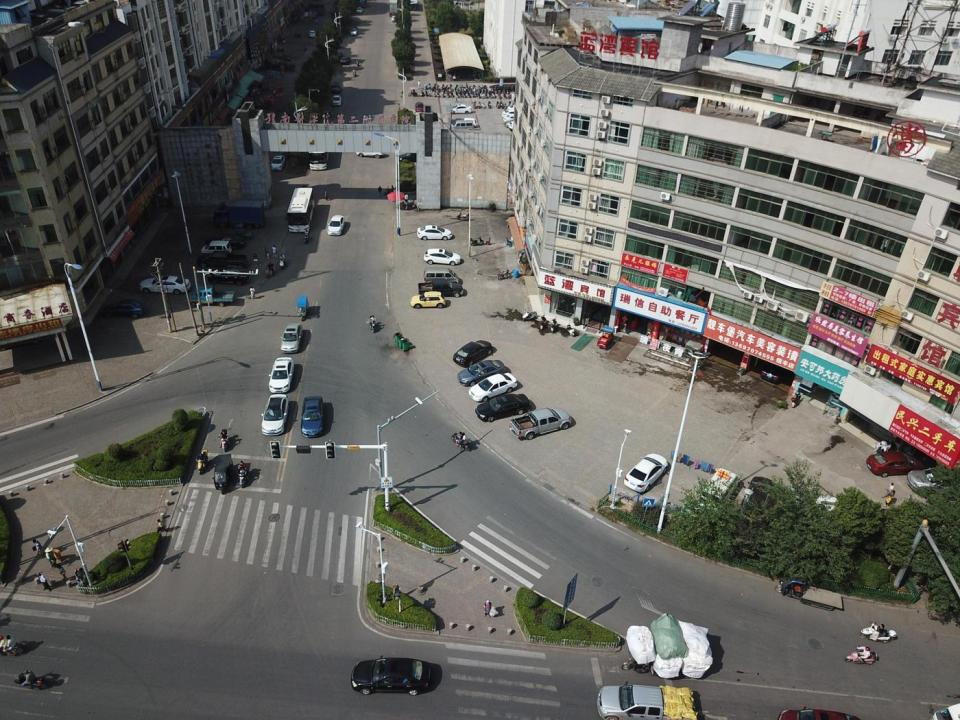bus: (286, 187, 315, 233), (309, 138, 328, 171)
car: (351, 658, 432, 698), (699, 468, 739, 516), (741, 476, 778, 527), (624, 453, 669, 494), (476, 392, 532, 422), (468, 372, 517, 402), (457, 360, 505, 387), (262, 394, 289, 436), (453, 340, 493, 368), (867, 452, 910, 476), (139, 275, 190, 294), (268, 356, 294, 393), (99, 300, 145, 320), (816, 494, 842, 528), (302, 396, 323, 438), (206, 266, 250, 284), (424, 248, 460, 266), (410, 290, 446, 308), (281, 323, 303, 352), (760, 360, 786, 383), (417, 225, 452, 240), (199, 240, 231, 256), (354, 145, 384, 158), (327, 214, 344, 236), (217, 236, 245, 248), (448, 104, 472, 114), (271, 154, 284, 171), (456, 117, 476, 128), (504, 118, 526, 128), (502, 109, 525, 117), (503, 114, 525, 122), (510, 121, 526, 130), (330, 82, 341, 94), (508, 105, 528, 111), (332, 95, 342, 105), (341, 57, 350, 64), (350, 28, 357, 36), (356, 7, 363, 14), (392, 15, 397, 22)
truck: (596, 683, 695, 720), (509, 408, 563, 441), (213, 202, 264, 225), (189, 285, 235, 308), (417, 280, 463, 297), (203, 252, 247, 268), (389, 0, 398, 16)
van: (424, 267, 459, 284), (450, 121, 473, 132), (416, 102, 423, 113), (310, 30, 316, 38)
